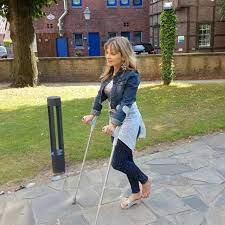crutches: (72, 36, 152, 225)
